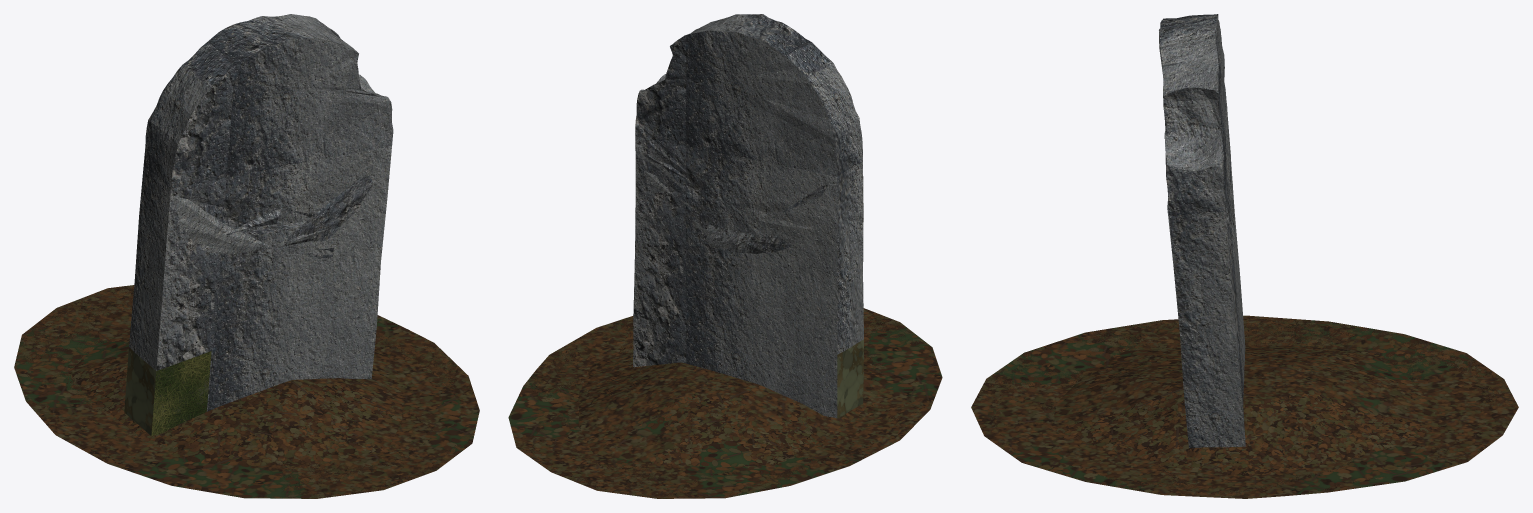
The model's file is grave-marker-v01.glb.
The picture shows the model from 3 angles, left to right: view 1: azimuth 30°, elevation 25°; view 2: azimuth 150°, elevation 25°; view 3: azimuth 270°, elevation 25°; orthographic projection. The views are drawn at different scales.
Parts seen in each view (by area): view 1: grave-marker; view 2: grave-marker; view 3: grave-marker.
Part boxes in pixels (bbox=[...]): grave-marker: bbox=[14, 14, 479, 498]; grave-marker: bbox=[508, 14, 942, 498]; grave-marker: bbox=[971, 14, 1518, 498].
Bounding box in the file's own units: 1.55 × 1.53 × 1.96.
3 materials, 3 textured.
